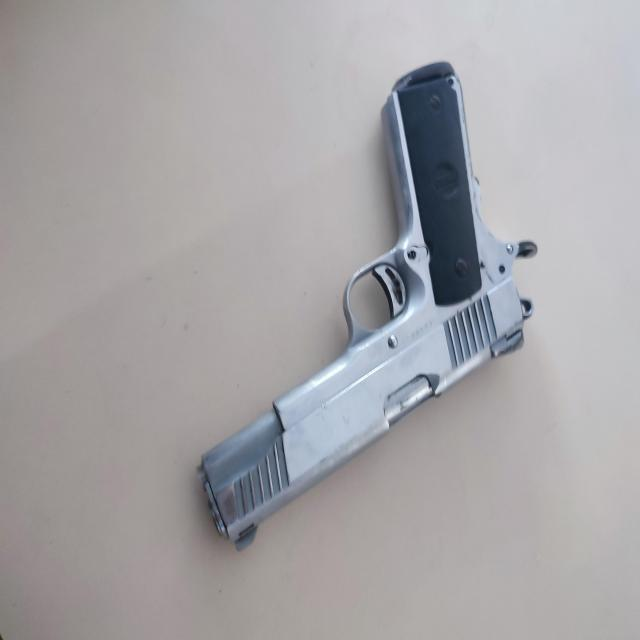pistol: (195, 64, 538, 552)
